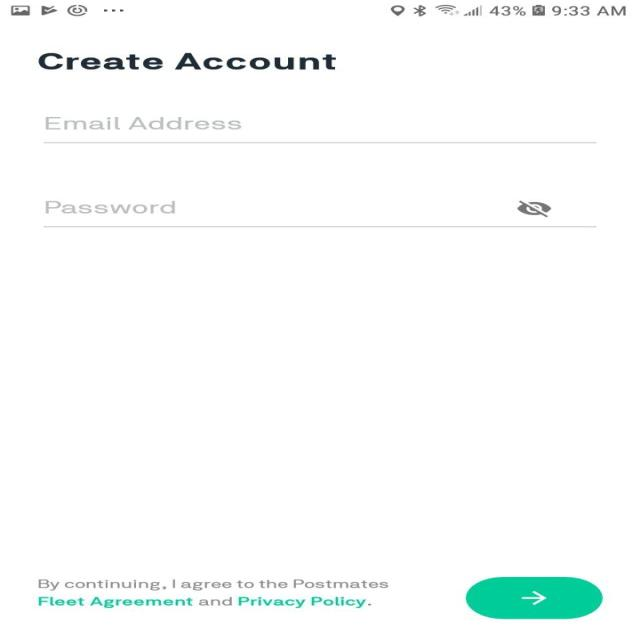EditText: (42, 200, 596, 228), (42, 116, 596, 143)
Icon: (465, 576, 603, 619), (516, 200, 552, 218)
Text: (38, 578, 388, 608), (37, 53, 336, 70), (44, 116, 241, 130), (44, 200, 176, 213)
